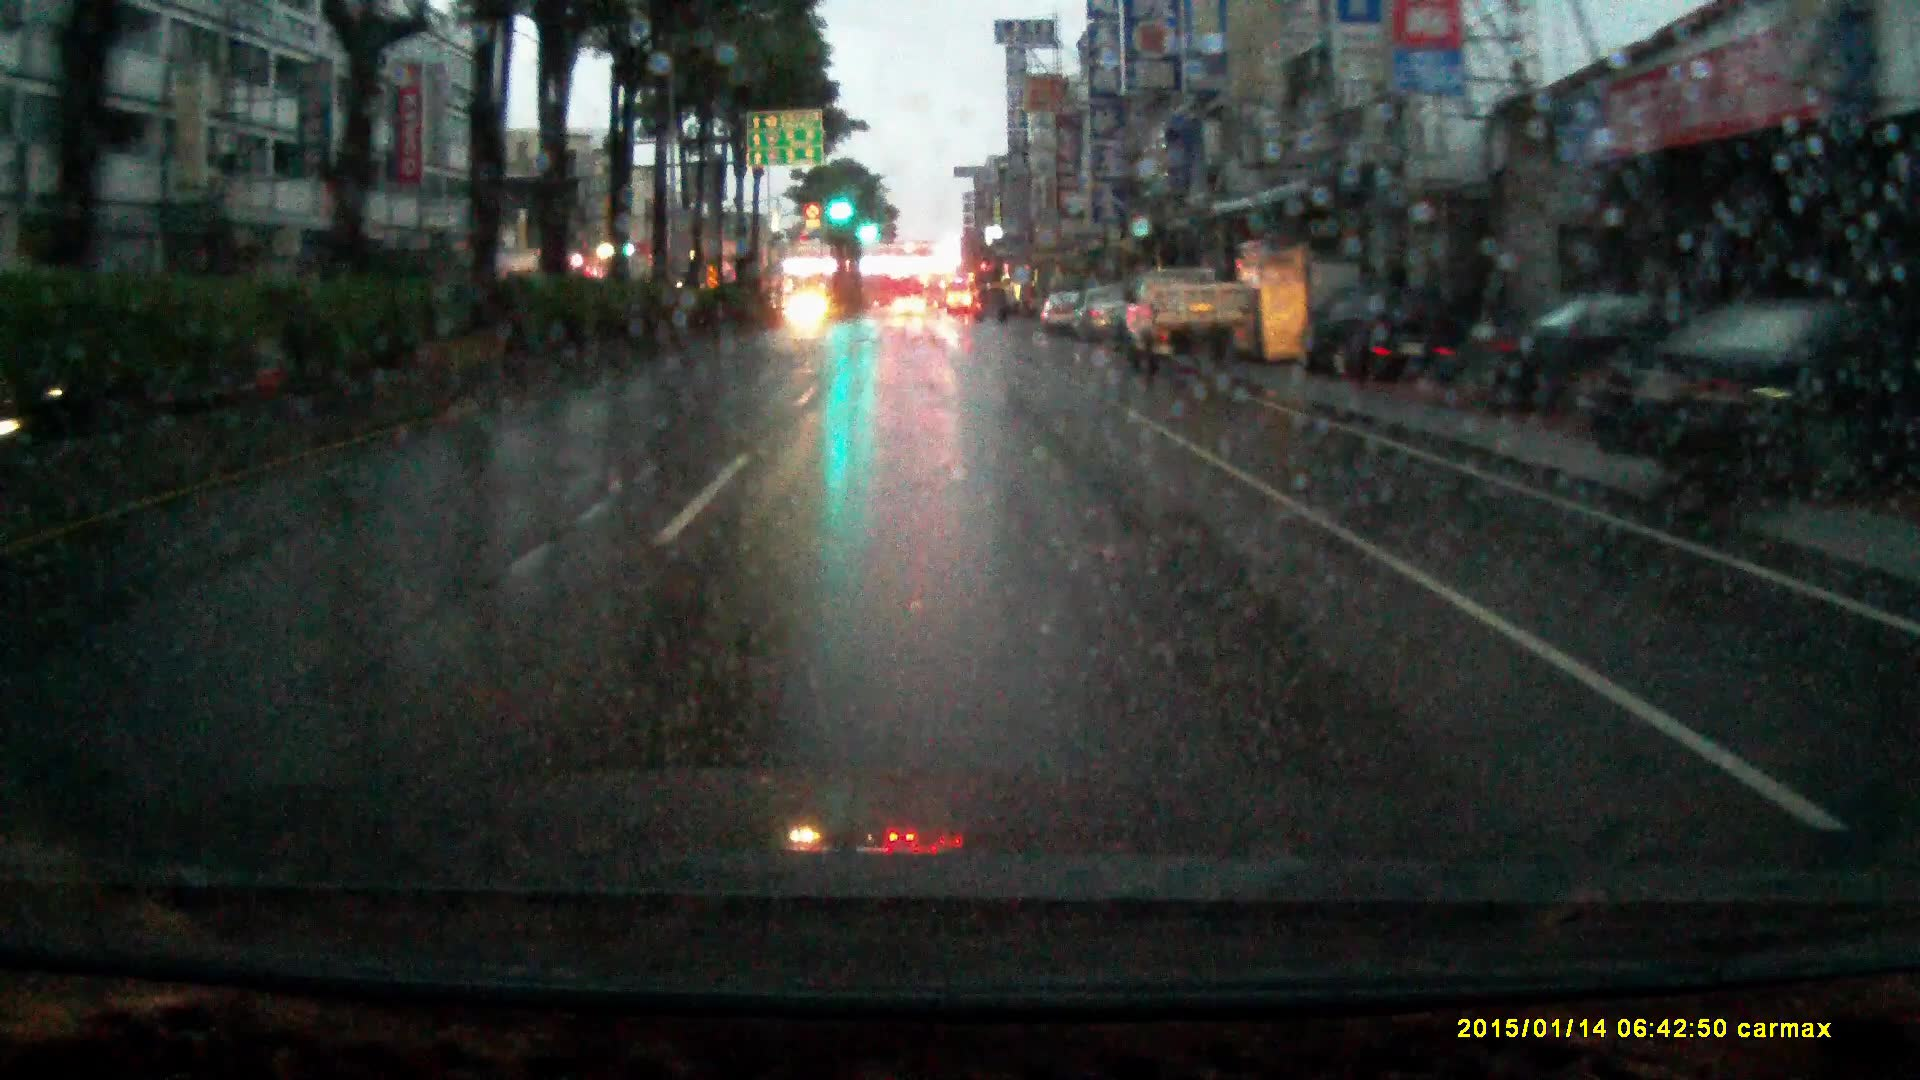vehicle: (1586, 298, 1920, 514), (1473, 298, 1809, 419), (1122, 266, 1254, 378), (1308, 287, 1456, 382), (1071, 287, 1131, 345), (1040, 291, 1084, 338), (787, 289, 831, 331), (973, 287, 1011, 324), (893, 295, 927, 320), (926, 276, 947, 313)
